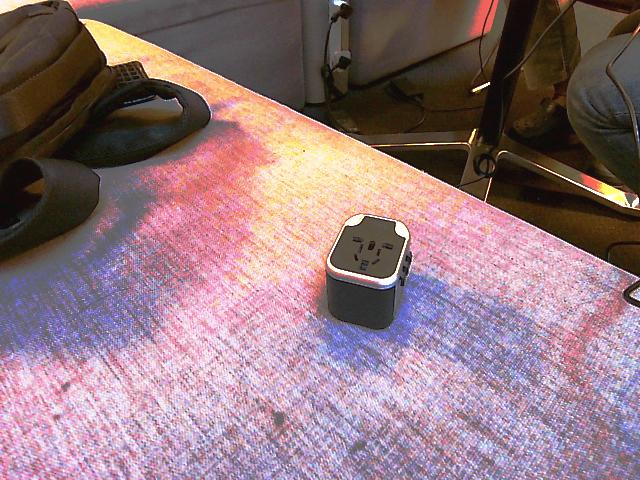adapter: (324, 212, 412, 328)
